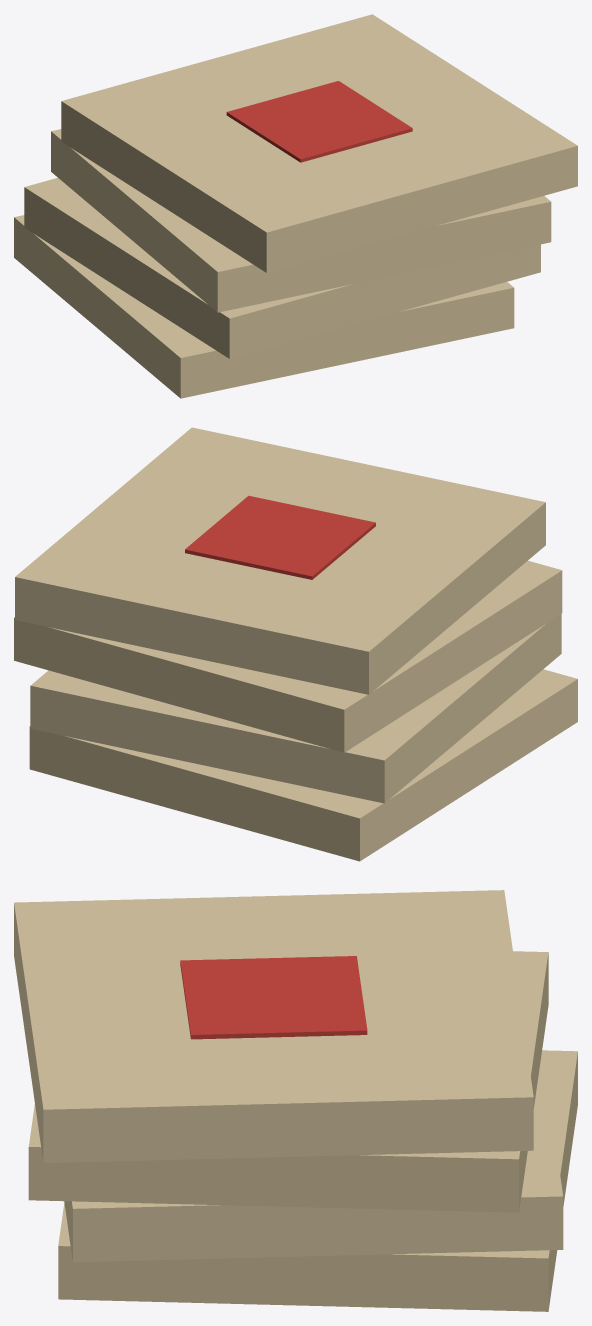
Rendered from pizza_boxes.glb.
3 views of the same model, one above another, from view 1: azimuth 30°, elevation 25°; view 2: azimuth 150°, elevation 25°; view 3: azimuth 270°, elevation 25° (orthographic). The views are drawn at different scales.
Parts seen in each view (by area): view 1: pizza_boxes_mesh; view 2: pizza_boxes_mesh; view 3: pizza_boxes_mesh.
Part boxes in pixels (x1,y1,x2,y2): pizza_boxes_mesh: [14, 14, 577, 398]; pizza_boxes_mesh: [14, 427, 577, 861]; pizza_boxes_mesh: [14, 890, 577, 1311].
Bounding box in the file's own units: 0.5891 × 0.26 × 0.5741.
